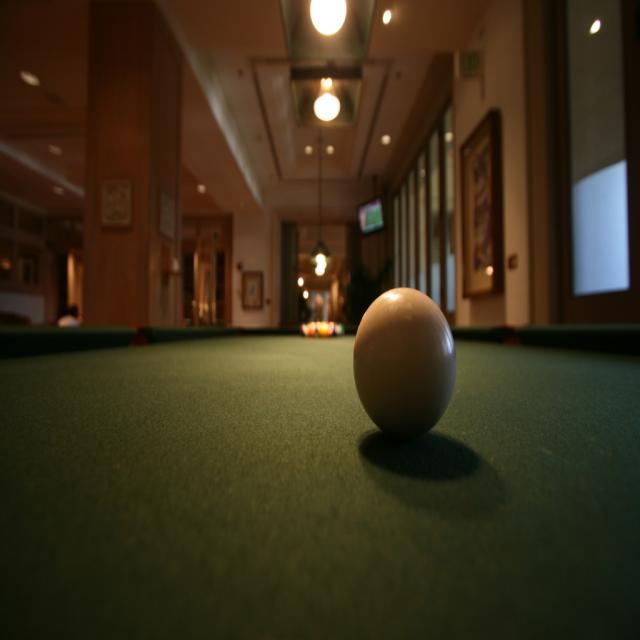Ball: (354, 285, 458, 443)
Billiard table: (0, 325, 639, 639)
